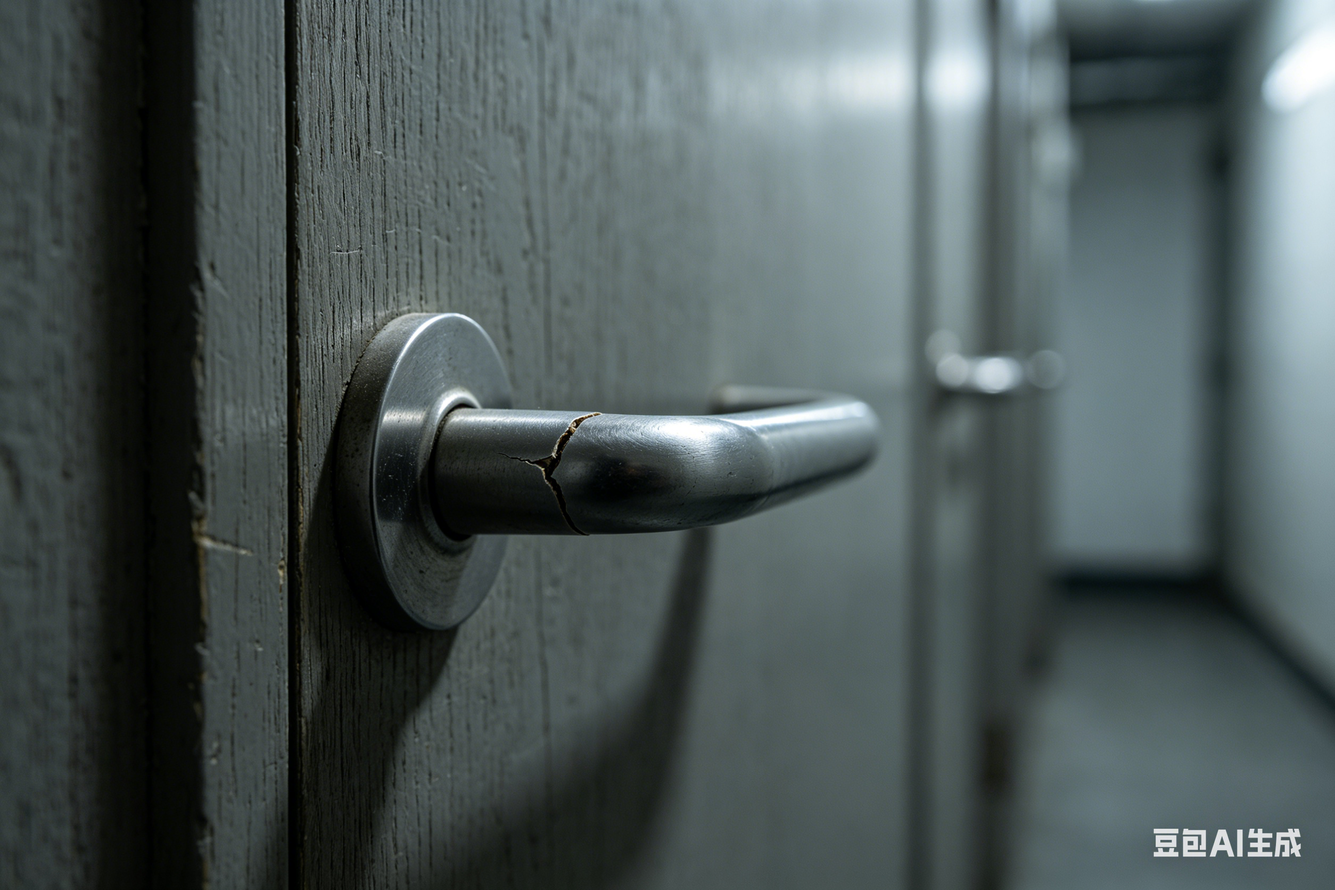BadLock: (508, 390, 602, 508)
